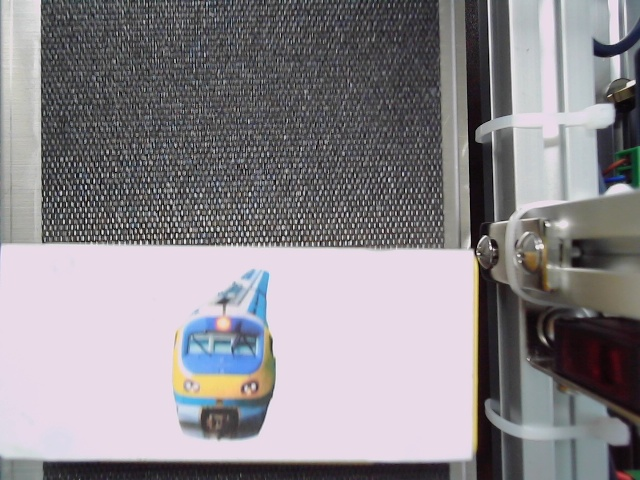train: (170, 264, 280, 442)
